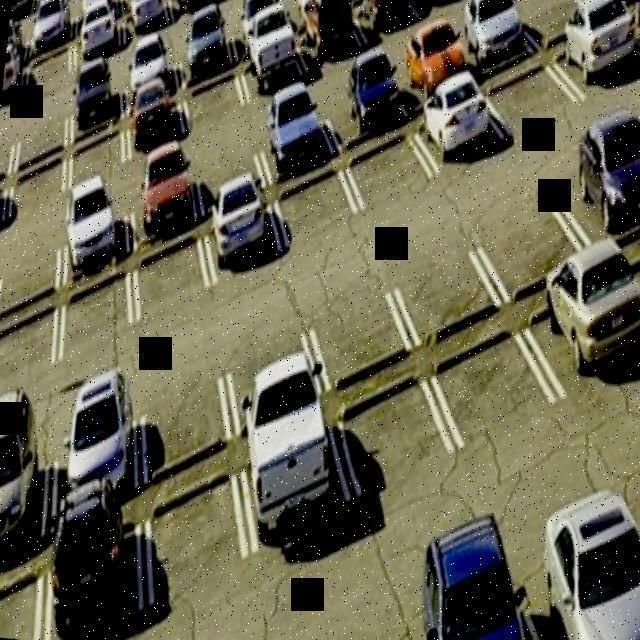car: (237, 394, 361, 538), (509, 519, 640, 640), (538, 250, 632, 396), (46, 518, 155, 640), (404, 552, 552, 640), (39, 390, 142, 498), (578, 124, 640, 246), (200, 186, 292, 268), (558, 0, 640, 85), (0, 434, 52, 560), (414, 84, 498, 162), (244, 6, 308, 106), (258, 108, 336, 182), (452, 0, 532, 70), (124, 81, 180, 176), (335, 74, 409, 144), (396, 31, 478, 91), (58, 202, 130, 266), (128, 178, 202, 240), (170, 24, 238, 84), (302, 0, 362, 66), (126, 41, 186, 105), (72, 64, 122, 138), (356, 0, 418, 42), (29, 0, 74, 57), (79, 1, 124, 49), (124, 0, 172, 44), (172, 0, 222, 22)
free: (339, 354, 459, 502), (436, 309, 544, 465), (137, 492, 242, 606), (395, 236, 507, 338), (308, 276, 412, 382), (479, 204, 578, 302), (219, 325, 319, 415), (134, 231, 212, 345), (142, 359, 228, 462), (268, 170, 356, 266), (59, 261, 129, 377), (0, 309, 60, 413), (184, 57, 244, 147), (349, 144, 421, 216), (497, 66, 566, 138), (0, 245, 68, 311), (66, 134, 130, 194), (192, 152, 260, 206), (5, 157, 63, 215), (0, 570, 41, 640), (28, 40, 72, 103)
